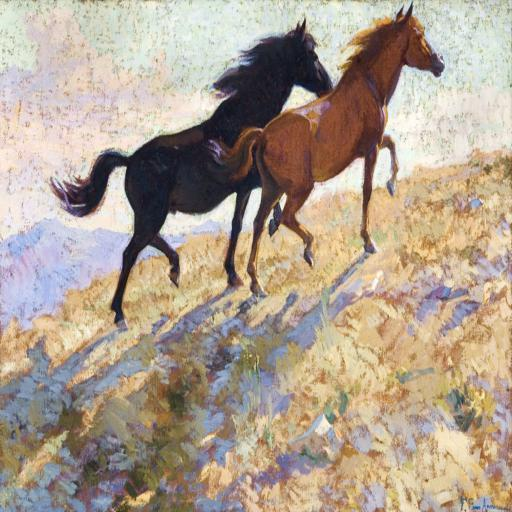horse: (48, 16, 334, 331), (203, 2, 446, 302)
